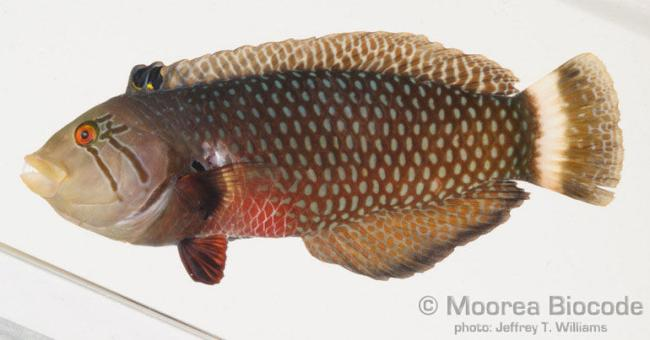fish: (19, 30, 624, 286)
